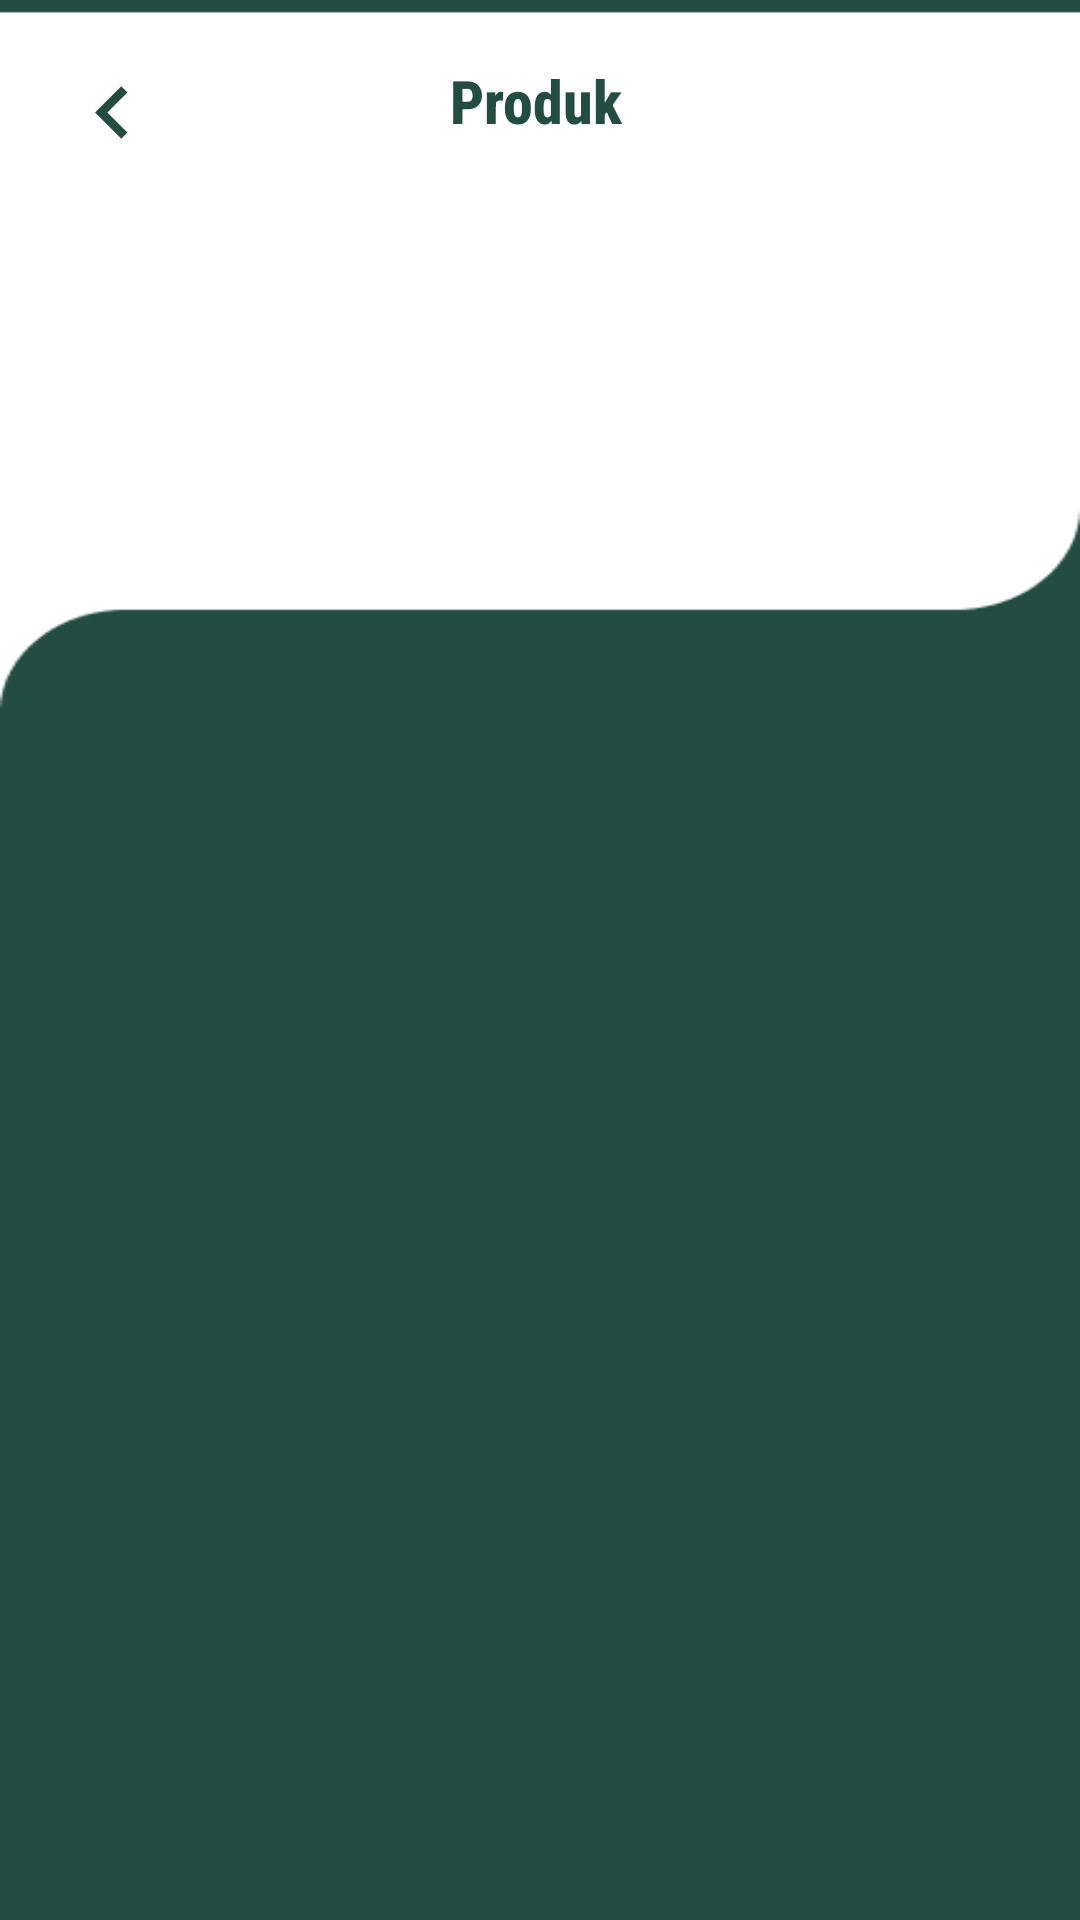

Where to tap for icons on this 1080×1920 app screen, as (x=x, y=y):
back: (x=111, y=112)
